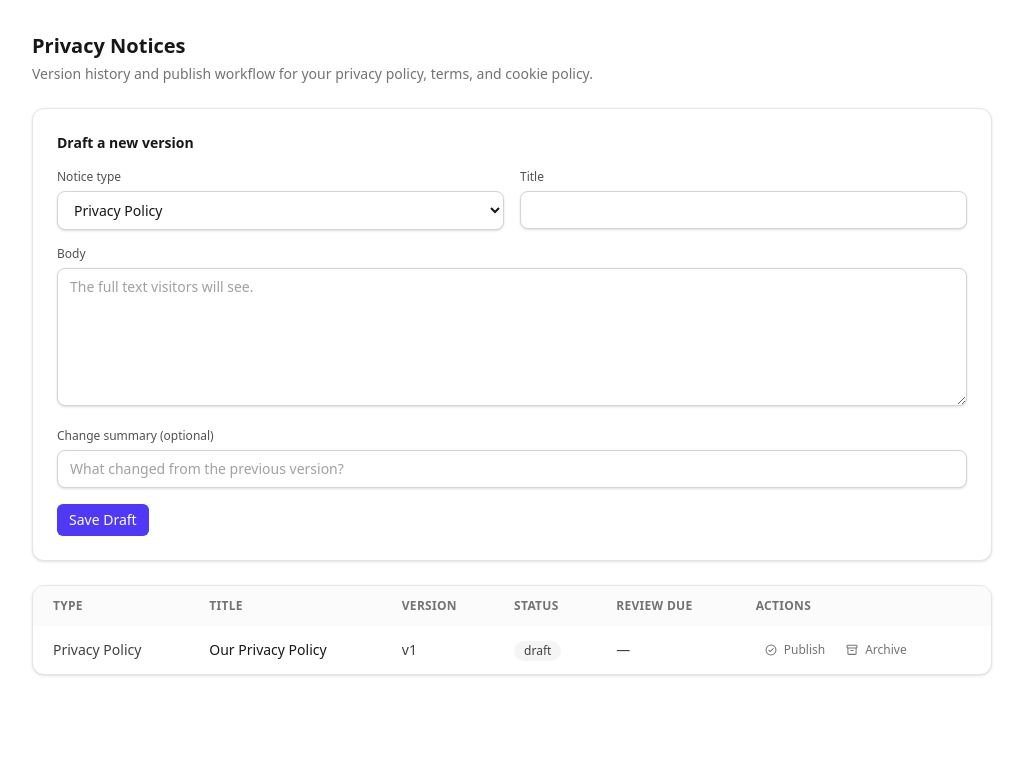
Test: NoticeManagementPage › shows an error message when an update is rejected
Check: the text "Our Privacy Policy" is shown, box [193, 626, 386, 674]
What coordinates should you click on to do the following:
click the button "Publish"
I would click on:
 (794, 650)
Its box is [756, 638, 833, 662].
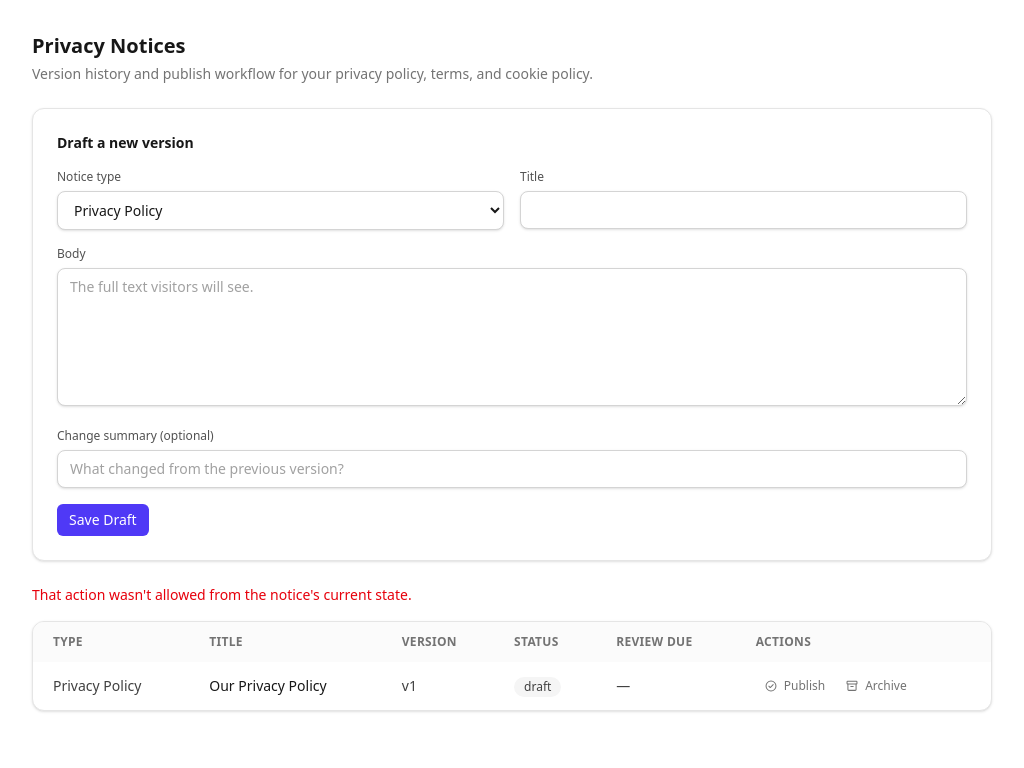
Check: the text "That action wasn't allowed from the notice's current state." is shown, box [32, 585, 412, 604]
